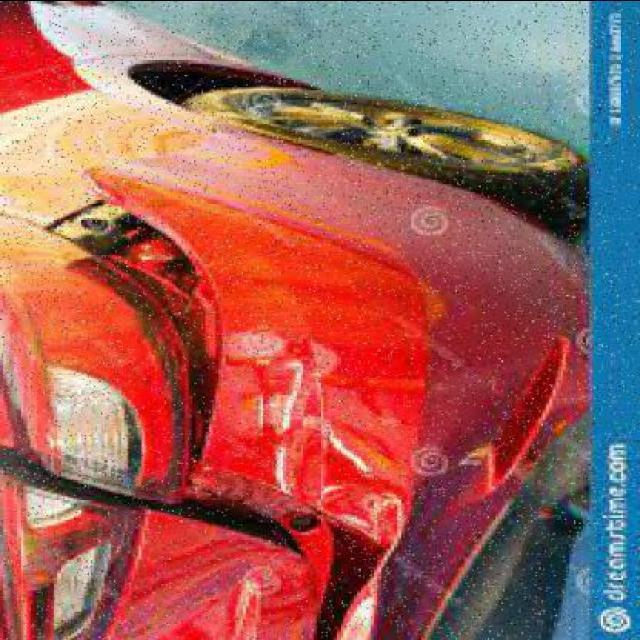rear-bumper-dent: (99, 100, 579, 640)
